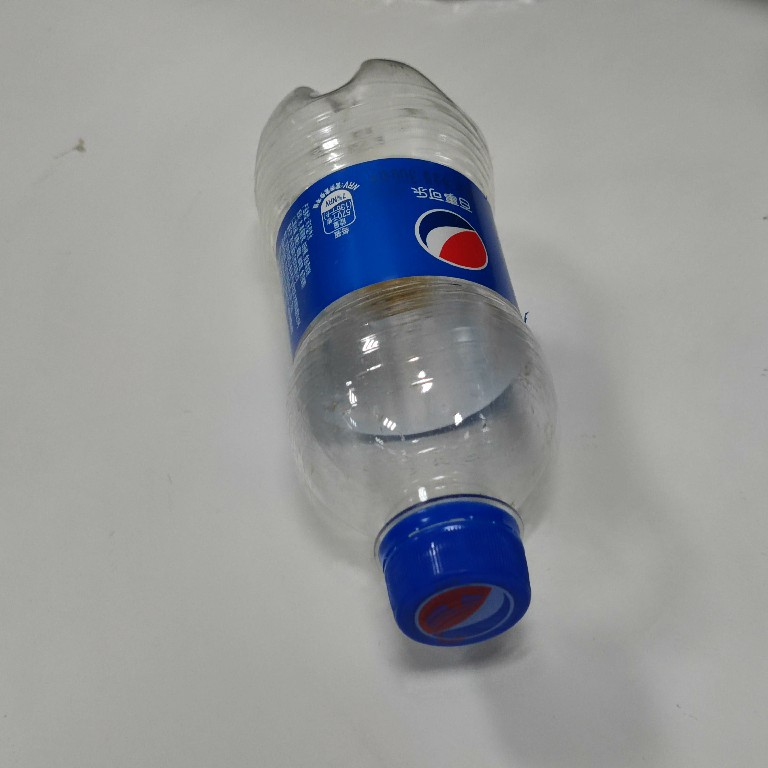bottle: (246, 52, 564, 660)
